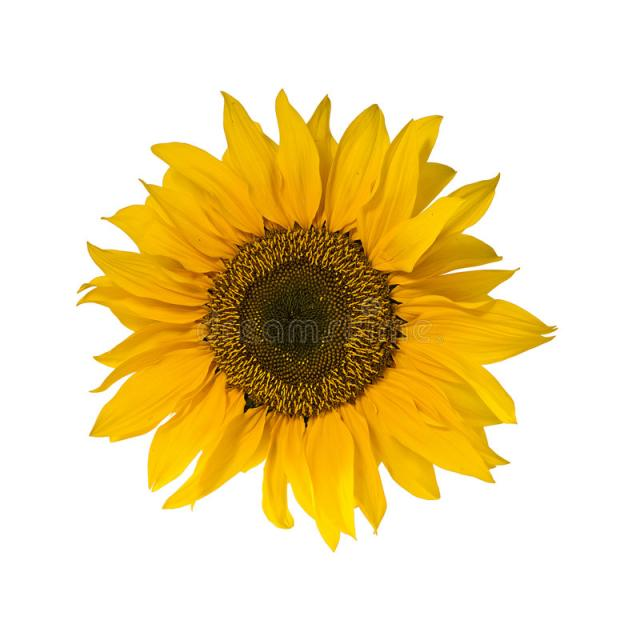sunflower: (72, 73, 570, 555)
